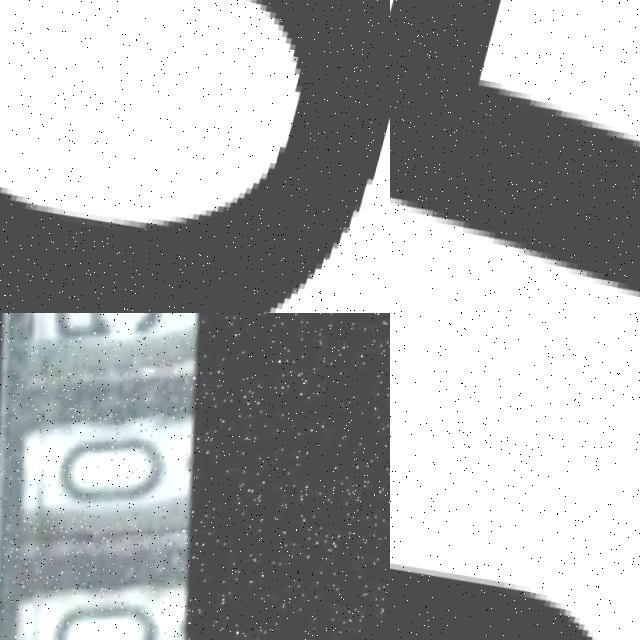0: (41, 417, 191, 532), (30, 581, 183, 640)
5: (31, 313, 187, 370)
F: (390, 0, 640, 313)
J: (390, 496, 640, 640)
